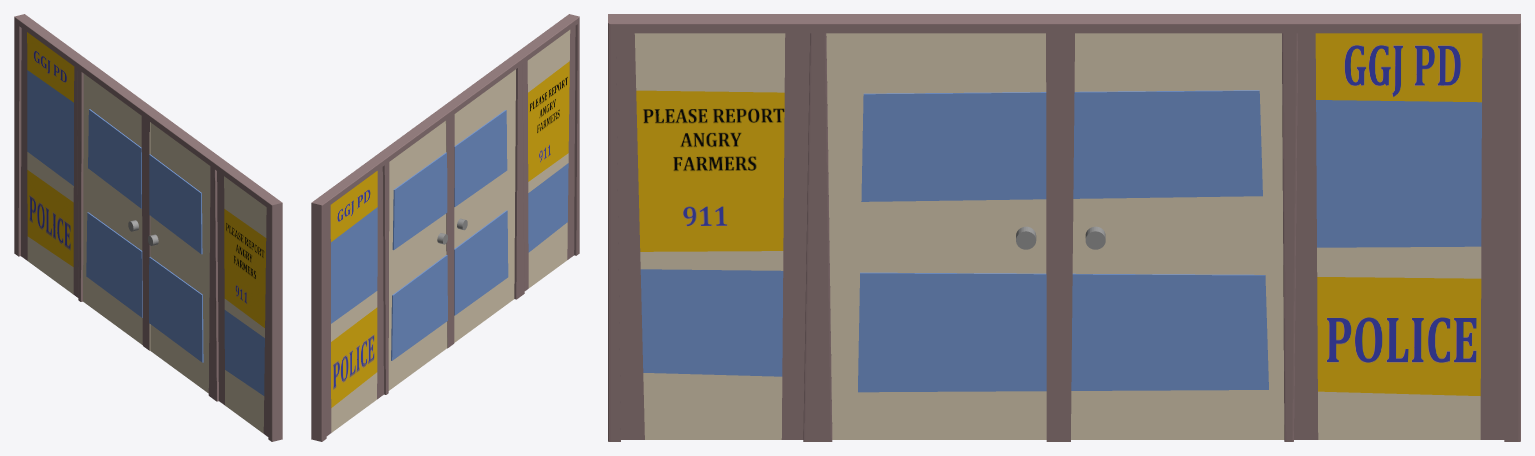
The model's file is prop-mainentrance.fbx.
3 views of the same model, side by side, from view 1: azimuth 30°, elevation 25°; view 2: azimuth 150°, elevation 25°; view 3: azimuth 270°, elevation 25° (orthographic). The views are drawn at different scales.
Visible parts, largest first — view 1: Plane; view 2: Plane; view 3: Plane.
Boxes of the visible parts, box(x1,y1,x2,y2) form: Plane: box(14, 14, 282, 441); Plane: box(311, 14, 579, 441); Plane: box(608, 14, 1520, 441).
Bounding box in the file's own units: 16 × 205 × 405.
